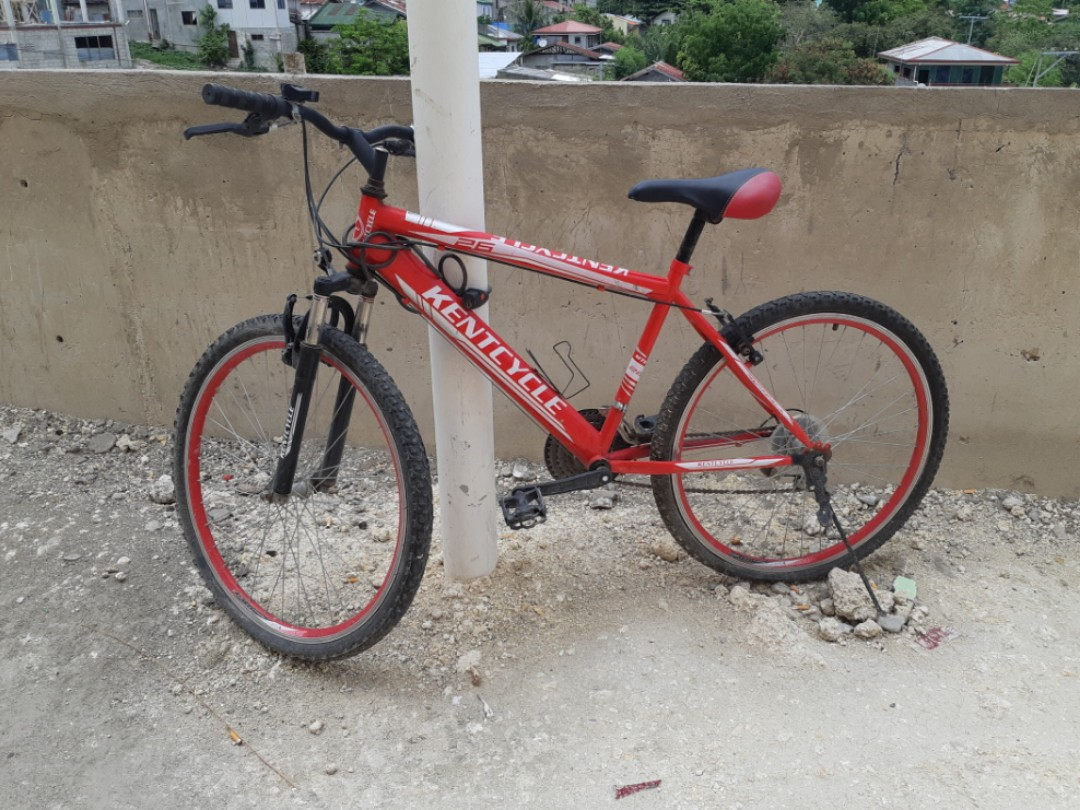bike: (165, 79, 950, 661)
pole: (406, 2, 506, 583)
